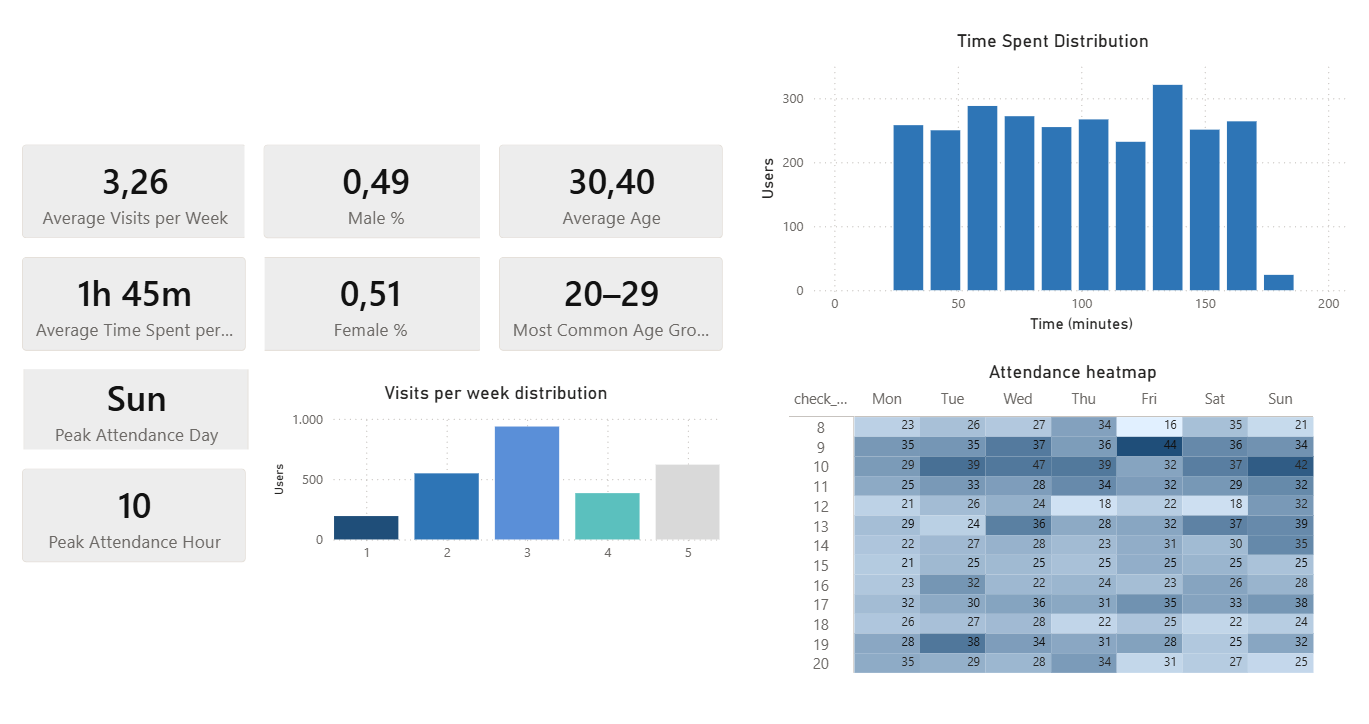

The dashboard page shown, as its layout file describes it:
{"tool":"powerbi","page":{"name":"Overview","canvas":[1280,720],"ordinal":0},"visuals":[{"type":"clusteredColumnChart","title":"Time Spent Distribution","fields":{"Y":["CountNonNull(gym_membership.id)"],"Category":["gym_membership.avg_time_in_gym (ubicaciones)"]},"box":[704.9,30.6,550,300],"z":0,"group":"g2"},{"type":"cardVisual","fields":{"Data":["gym_membership.Average Visits per Week"]},"box":[16.7,148.6,240,120],"z":0,"group":"g3"},{"type":"cardVisual","fields":{"Data":["gym_membership.Peak Attendance Day"]},"box":[17.7,347.1,240.6,120.3],"z":1000,"group":"g3"},{"type":"pivotTable","title":"Attendance heatmap","fields":{"Values":["CountNonNull(gym_membership.id)"],"Rows":["gym_membership.check_in_hour"],"Columns":["DIM_DAYS.day_name"]},"box":[704.9,387.1,549.6,300.8],"z":1000,"group":"g2"},{"type":"group","id":"g1","title":"Group 2","box":[16.7,148.6,677.8,415.9],"z":2000},{"type":"cardVisual","fields":{"Data":["gym_membership.Peak Attendance Hour"]},"box":[16.7,445.3,239.6,120.3],"z":2000,"group":"g3"},{"type":"group","id":"g2","title":"Group 3","box":[704.9,30.6,550.1,657.4],"z":2001},{"type":"cardVisual","fields":{"Data":["gym_membership.Female %"]},"box":[232.2,251.8,240.6,120.3],"z":3000,"group":"g3"},{"type":"cardVisual","fields":{"Data":["gym_membership.Male %"]},"box":[238.2,148.6,239.6,120],"z":4000,"group":"g3"},{"type":"cardVisual","fields":{"Data":["gym_membership.Average Age"]},"box":[453.7,148.6,239.6,120.3],"z":5000,"group":"g3"},{"type":"cardVisual","fields":{"Data":["gym_membership.Average Time Spent (H:M)"]},"box":[16.7,251.8,239.6,120.3],"z":6000,"group":"g3"},{"type":"cardVisual","fields":{"Data":["gym_membership.Most Common Age Group"]},"box":[453.7,251.8,239.6,120.3],"z":7000,"group":"g3"},{"type":"clusteredColumnChart","title":"Visits per week distribution","fields":{"Category":["gym_membership.visit_per_week"],"Y":["CountNonNull(gym_membership.id)"]},"box":[258.5,383.2,419.1,173.7],"z":8000,"group":"g1"},{"type":"group","id":"g3","title":"Group 1","box":[16.7,148.6,677,417.3],"z":10001,"group":"g1"}]}

Visuals, with their boxes on the page's 1280x720 design canvas (x1, y1, x2, y2). These are canvas units, not pixel positions in the 1369x724 screenshot, which may show the page scaled, cropped or inside an application window:
"Time Spent Distribution" clusteredColumnChart: 705:31:1255:331
cardVisual - gym_membership.Average Visits per Week: 17:149:257:269
cardVisual - gym_membership.Peak Attendance Day: 18:347:258:467
"Attendance heatmap" pivotTable: 705:387:1254:688
"Group 2" group: 17:149:694:564
cardVisual - gym_membership.Peak Attendance Hour: 17:445:256:566
"Group 3" group: 705:31:1255:688
cardVisual - gym_membership.Female %: 232:252:473:372
cardVisual - gym_membership.Male %: 238:149:478:269
cardVisual - gym_membership.Average Age: 454:149:693:269
cardVisual - gym_membership.Average Time Spent (H:M): 17:252:256:372
cardVisual - gym_membership.Most Common Age Group: 454:252:693:372
"Visits per week distribution" clusteredColumnChart: 258:383:678:557
"Group 1" group: 17:149:694:566
